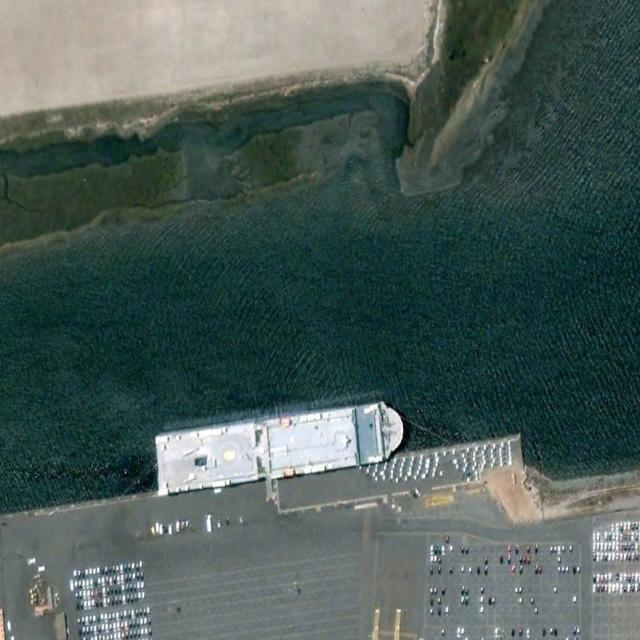RoRo: (153, 396, 407, 497)
